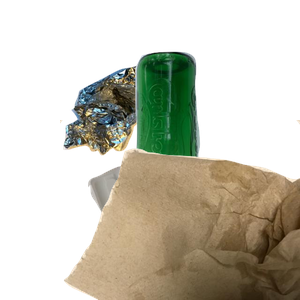glass: (129, 49, 300, 229)
metal: (61, 54, 225, 202)
plastic: (85, 163, 235, 300)
trash: (60, 120, 300, 300)
